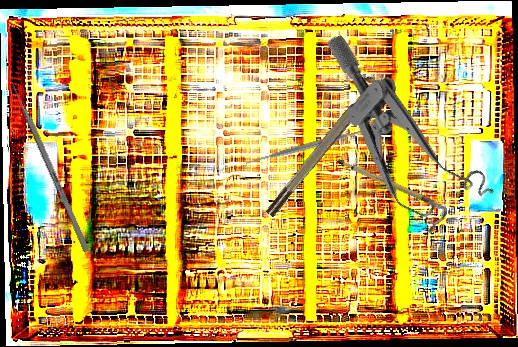Fixation Ring: (257, 73, 386, 220)
Pusher: (3, 68, 91, 253)
Scalpel Handle: (335, 145, 446, 225)
Spatula Surgical: (239, 121, 377, 172)
Speculum: (275, 32, 509, 248)
